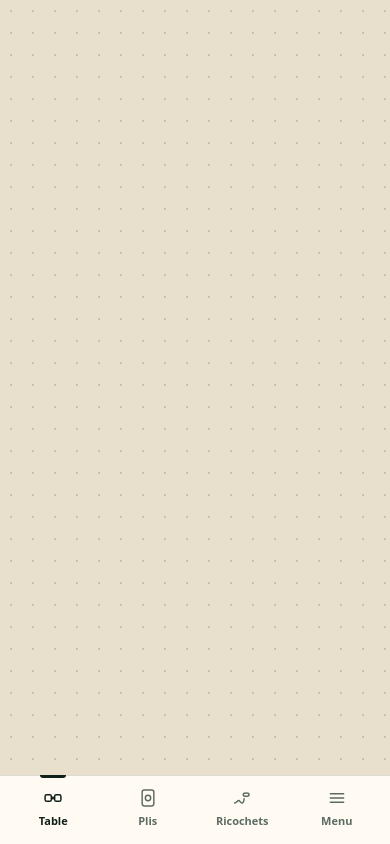
menu burger mobile › range Codex, Quêtes, Boutique et Réglages dans le burger
Click the button "Menu" at (337, 808), box [290,784,384,832]
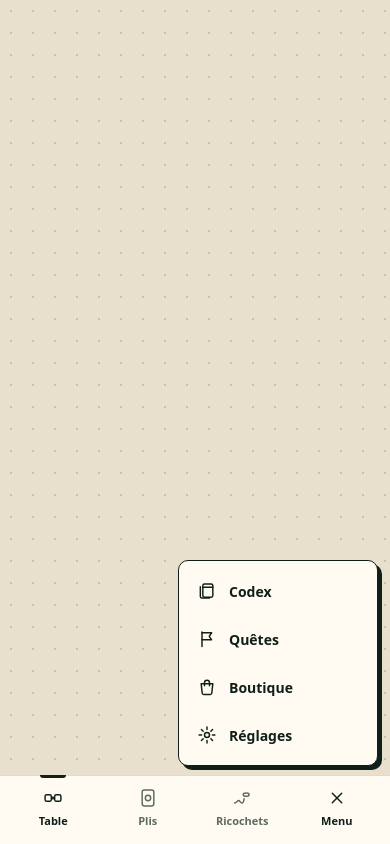
Now the button "Menu" is expanded, box [290,784,384,832]
Now the buttons read "Codex", "Quêtes", "Boutique", "Réglages", in this order, box [185,567,371,615]; [185,615,371,663]; [185,663,371,711]; [185,711,371,759]
